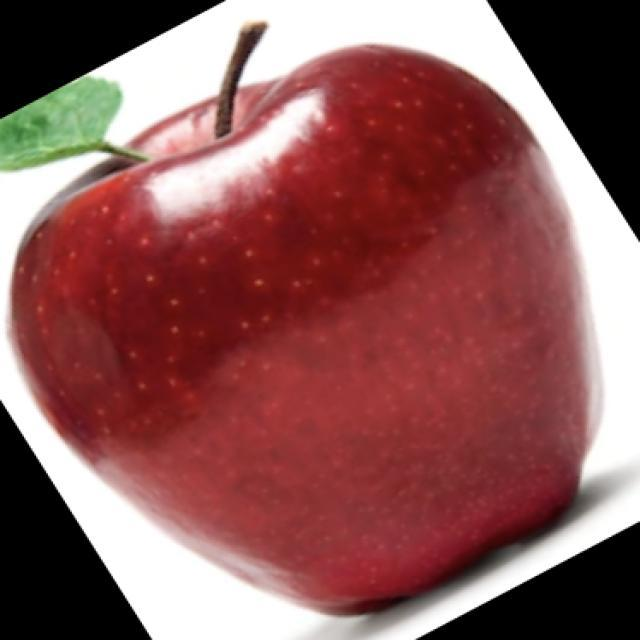Apple: (7, 20, 605, 617)
